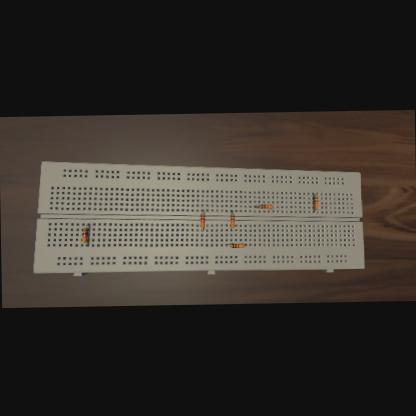breadboard: (31, 155, 364, 277)
resistor: (82, 226, 88, 242), (259, 204, 273, 208), (200, 213, 204, 227), (230, 212, 234, 226), (230, 242, 244, 246), (314, 196, 318, 209)
wire: (86, 223, 90, 226), (83, 242, 88, 244), (225, 242, 230, 244), (312, 192, 316, 194), (312, 209, 316, 211), (230, 210, 232, 213), (230, 228, 232, 230), (201, 227, 202, 229), (244, 244, 245, 245), (254, 206, 258, 206), (202, 209, 202, 212)
